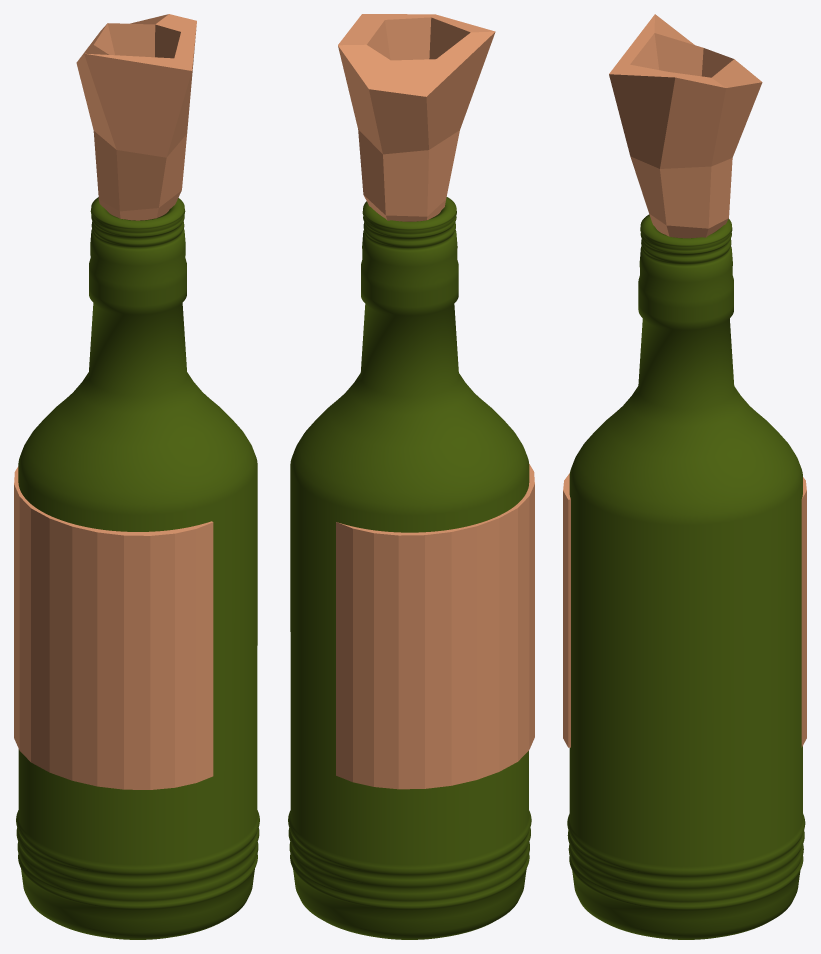
File: bottle.glb
The picture shows the model from 3 angles, left to right: view 1: azimuth 30°, elevation 25°; view 2: azimuth 150°, elevation 25°; view 3: azimuth 270°, elevation 25°; orthographic projection. The views are drawn at different scales.
Visible parts, largest first — view 1: A5-26, Cylinder; view 2: A5-26, Cylinder; view 3: A5-26, Cylinder.
Part boxes in pixels (left/top/right/bottom): A5-26: left=14, top=197, right=259, bottom=939; Cylinder: left=76, top=14, right=196, bottom=220; A5-26: left=288, top=197, right=534, bottom=939; Cylinder: left=338, top=14, right=495, bottom=221; A5-26: left=563, top=214, right=806, bottom=939; Cylinder: left=609, top=14, right=762, bottom=238.
Size of the model in its own units: 0.0756 by 0.2966 by 0.0767.
